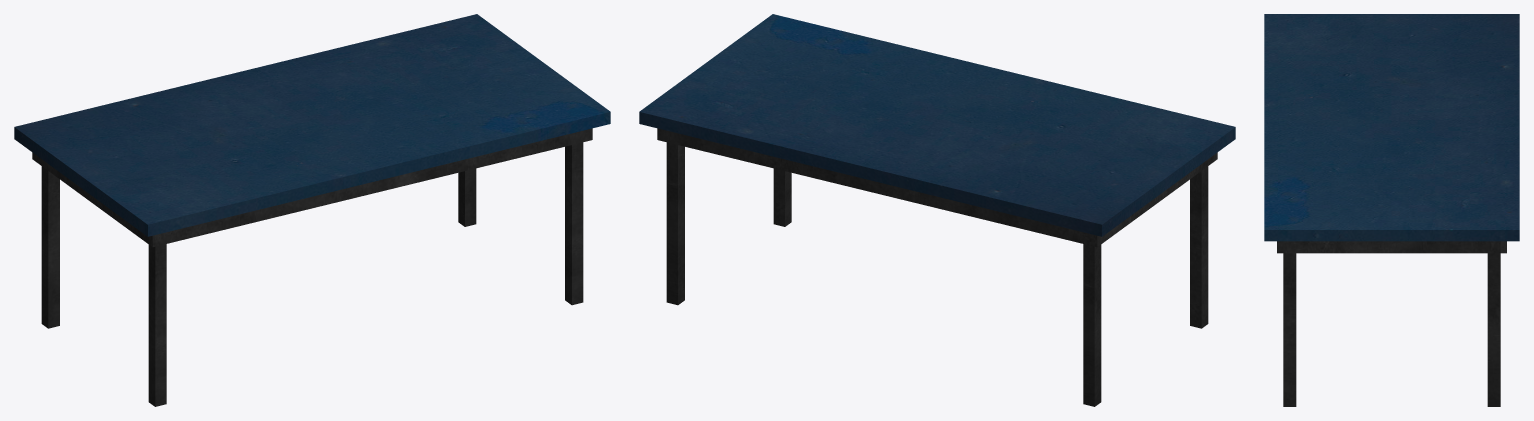
Rendered from table.obj.
3 renders of one model, left to right at view 1: azimuth 30°, elevation 25°; view 2: azimuth 150°, elevation 25°; view 3: azimuth 270°, elevation 25°, orthographic. The views are drawn at different scales.
Parts seen in each view (by area): view 1: Torus; view 2: Torus; view 3: Torus.
Boxes of the visible parts, <box> form: Torus: <box>14,14,610,406</box>; Torus: <box>639,14,1235,406</box>; Torus: <box>1264,14,1519,406</box>.
Bounding box in the file's own units: 8 × 3.2 × 4.
1 material, 1 textured.
